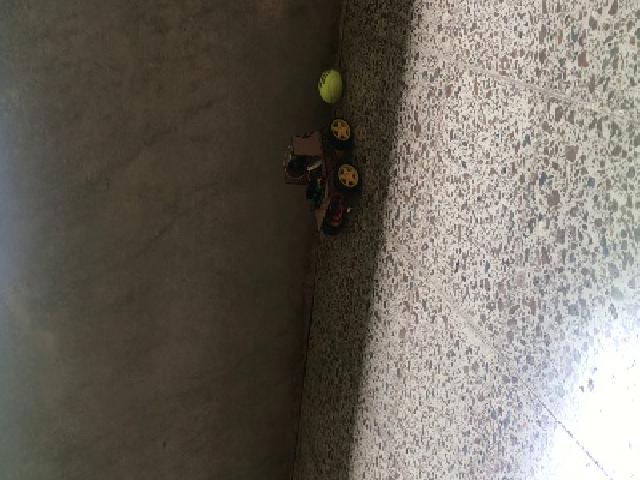Ball: (317, 70, 342, 103)
Robot: (278, 119, 362, 236)
